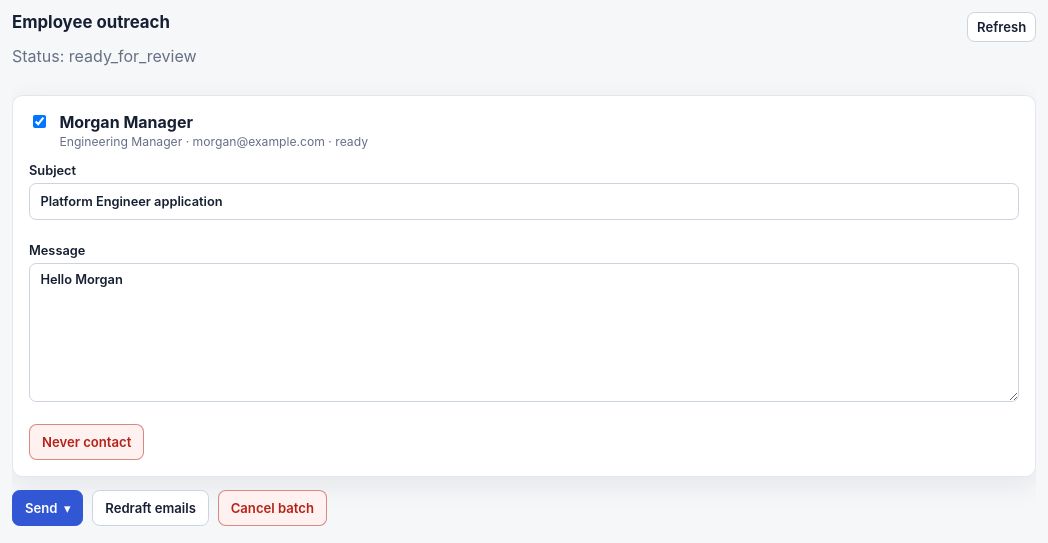
Test: OutreachPanel › opens the Send menu above when there is not enough room below
Click the heading "Send ▾". click: {"x": 48, "y": 508}
box: [12,490,84,526]
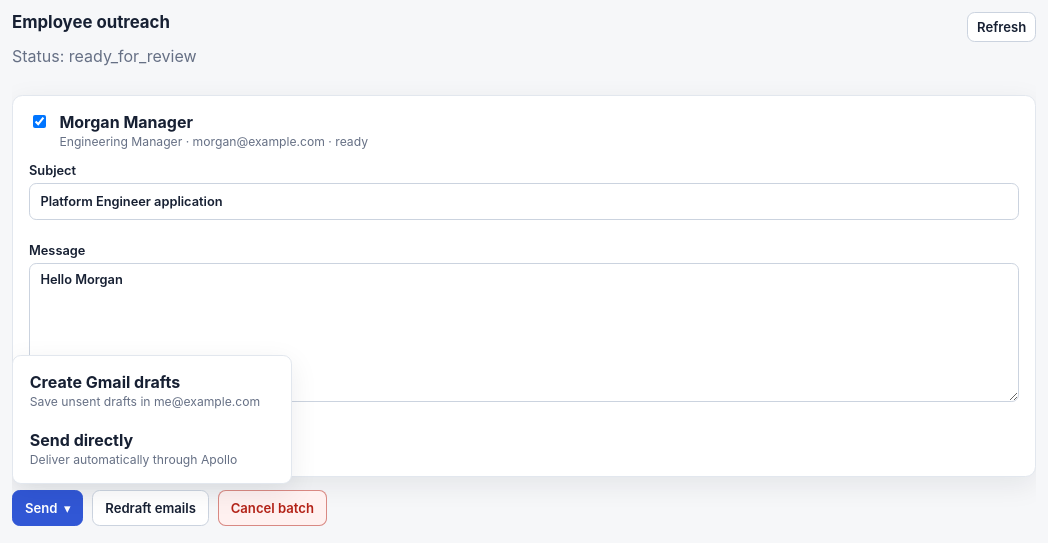
Expected: the text "Create Gmail drafts" is shown, [30,372,180,392]
